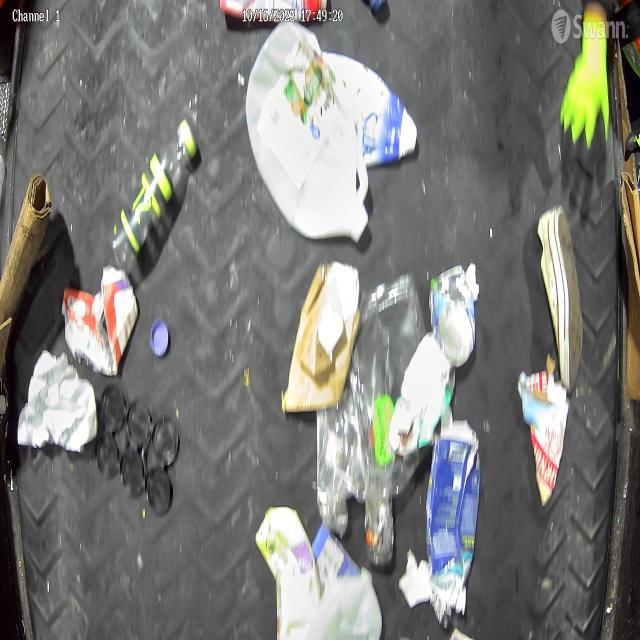can: (434, 262, 477, 368)
milk_jug: (245, 13, 372, 234)
plastic_bottle: (115, 124, 198, 264), (362, 380, 396, 564)
